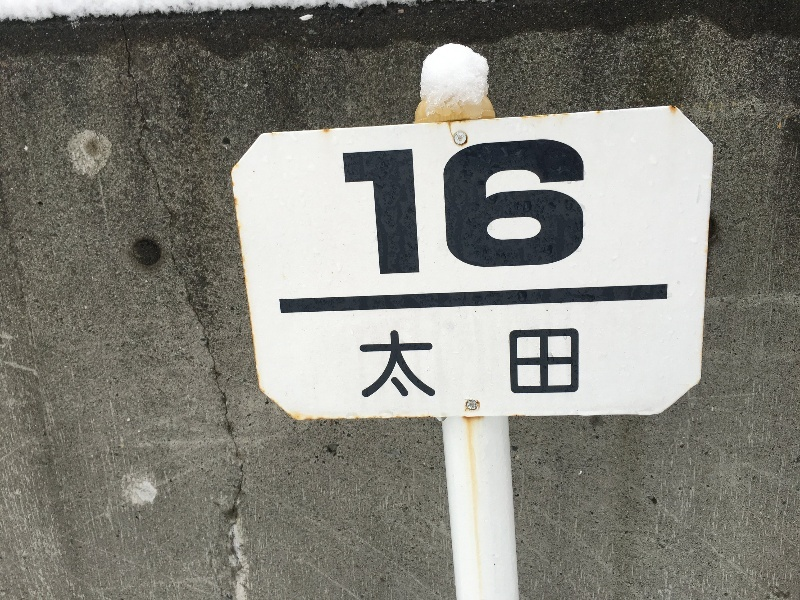text: (353, 139, 368, 278), (369, 139, 384, 278), (385, 139, 400, 278), (401, 139, 416, 278), (417, 139, 432, 278), (433, 139, 448, 278), (449, 139, 464, 278), (465, 139, 480, 278), (481, 139, 496, 278), (497, 139, 512, 278), (513, 139, 528, 278), (529, 139, 544, 278), (545, 139, 560, 278), (561, 139, 576, 278), (369, 326, 384, 401), (385, 326, 400, 401), (401, 326, 416, 401), (417, 326, 432, 401), (433, 326, 448, 401), (449, 326, 464, 401), (465, 326, 480, 401), (481, 326, 496, 401), (497, 326, 512, 401), (513, 326, 528, 401), (529, 326, 544, 401), (545, 326, 560, 401), (561, 326, 576, 401), (344, 139, 352, 278), (577, 139, 584, 278), (361, 326, 368, 401), (577, 326, 579, 401)
